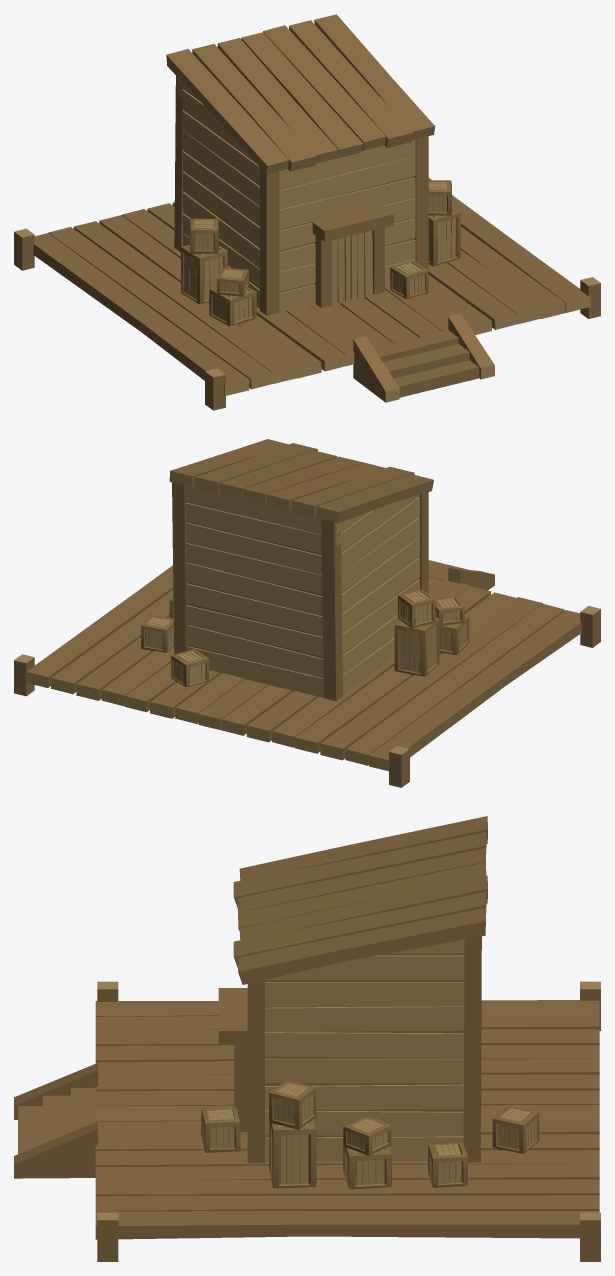
The model's file is Storage_FirstAge_Level1.glb.
3 renders of one model, top to bottom at view 1: azimuth 30°, elevation 25°; view 2: azimuth 150°, elevation 25°; view 3: azimuth 270°, elevation 25°, orthographic. The views are drawn at different scales.
Visible parts, largest first — view 1: Storage_FirstAge_Level1; view 2: Storage_FirstAge_Level1; view 3: Storage_FirstAge_Level1.
Part boxes in pixels (x1,y1,x2,y2): Storage_FirstAge_Level1: (14, 14, 600, 410); Storage_FirstAge_Level1: (14, 439, 600, 787); Storage_FirstAge_Level1: (14, 816, 600, 1261).
Size of the model in its own units: 1.41 by 0.7613 by 1.47.
